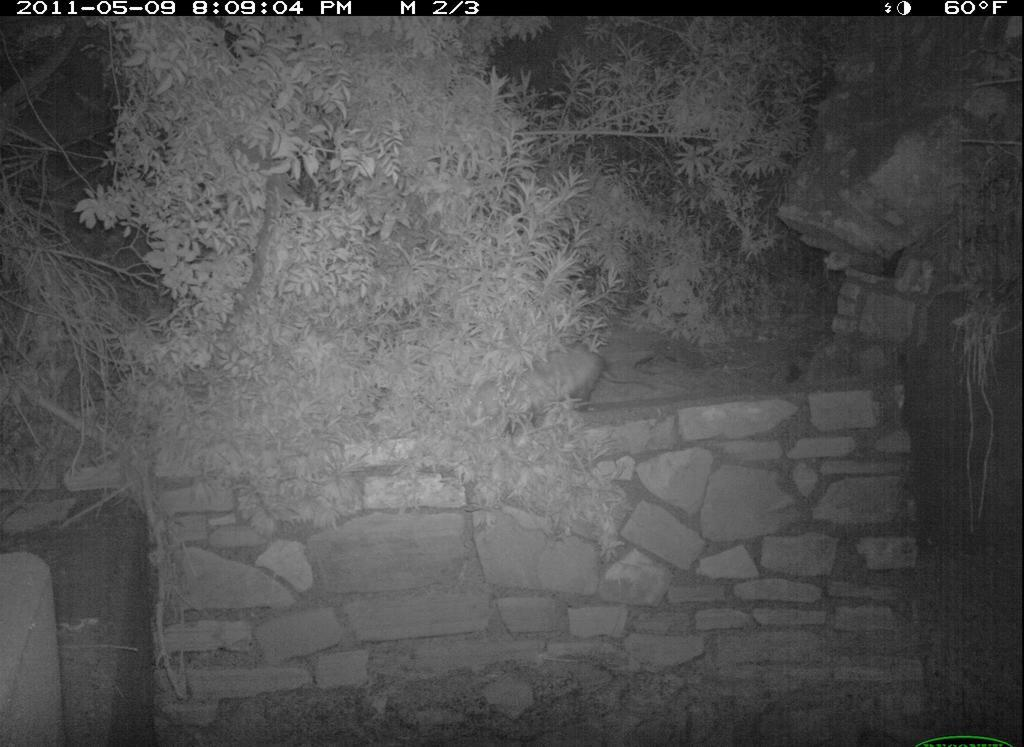opossum: (462, 336, 668, 443)
